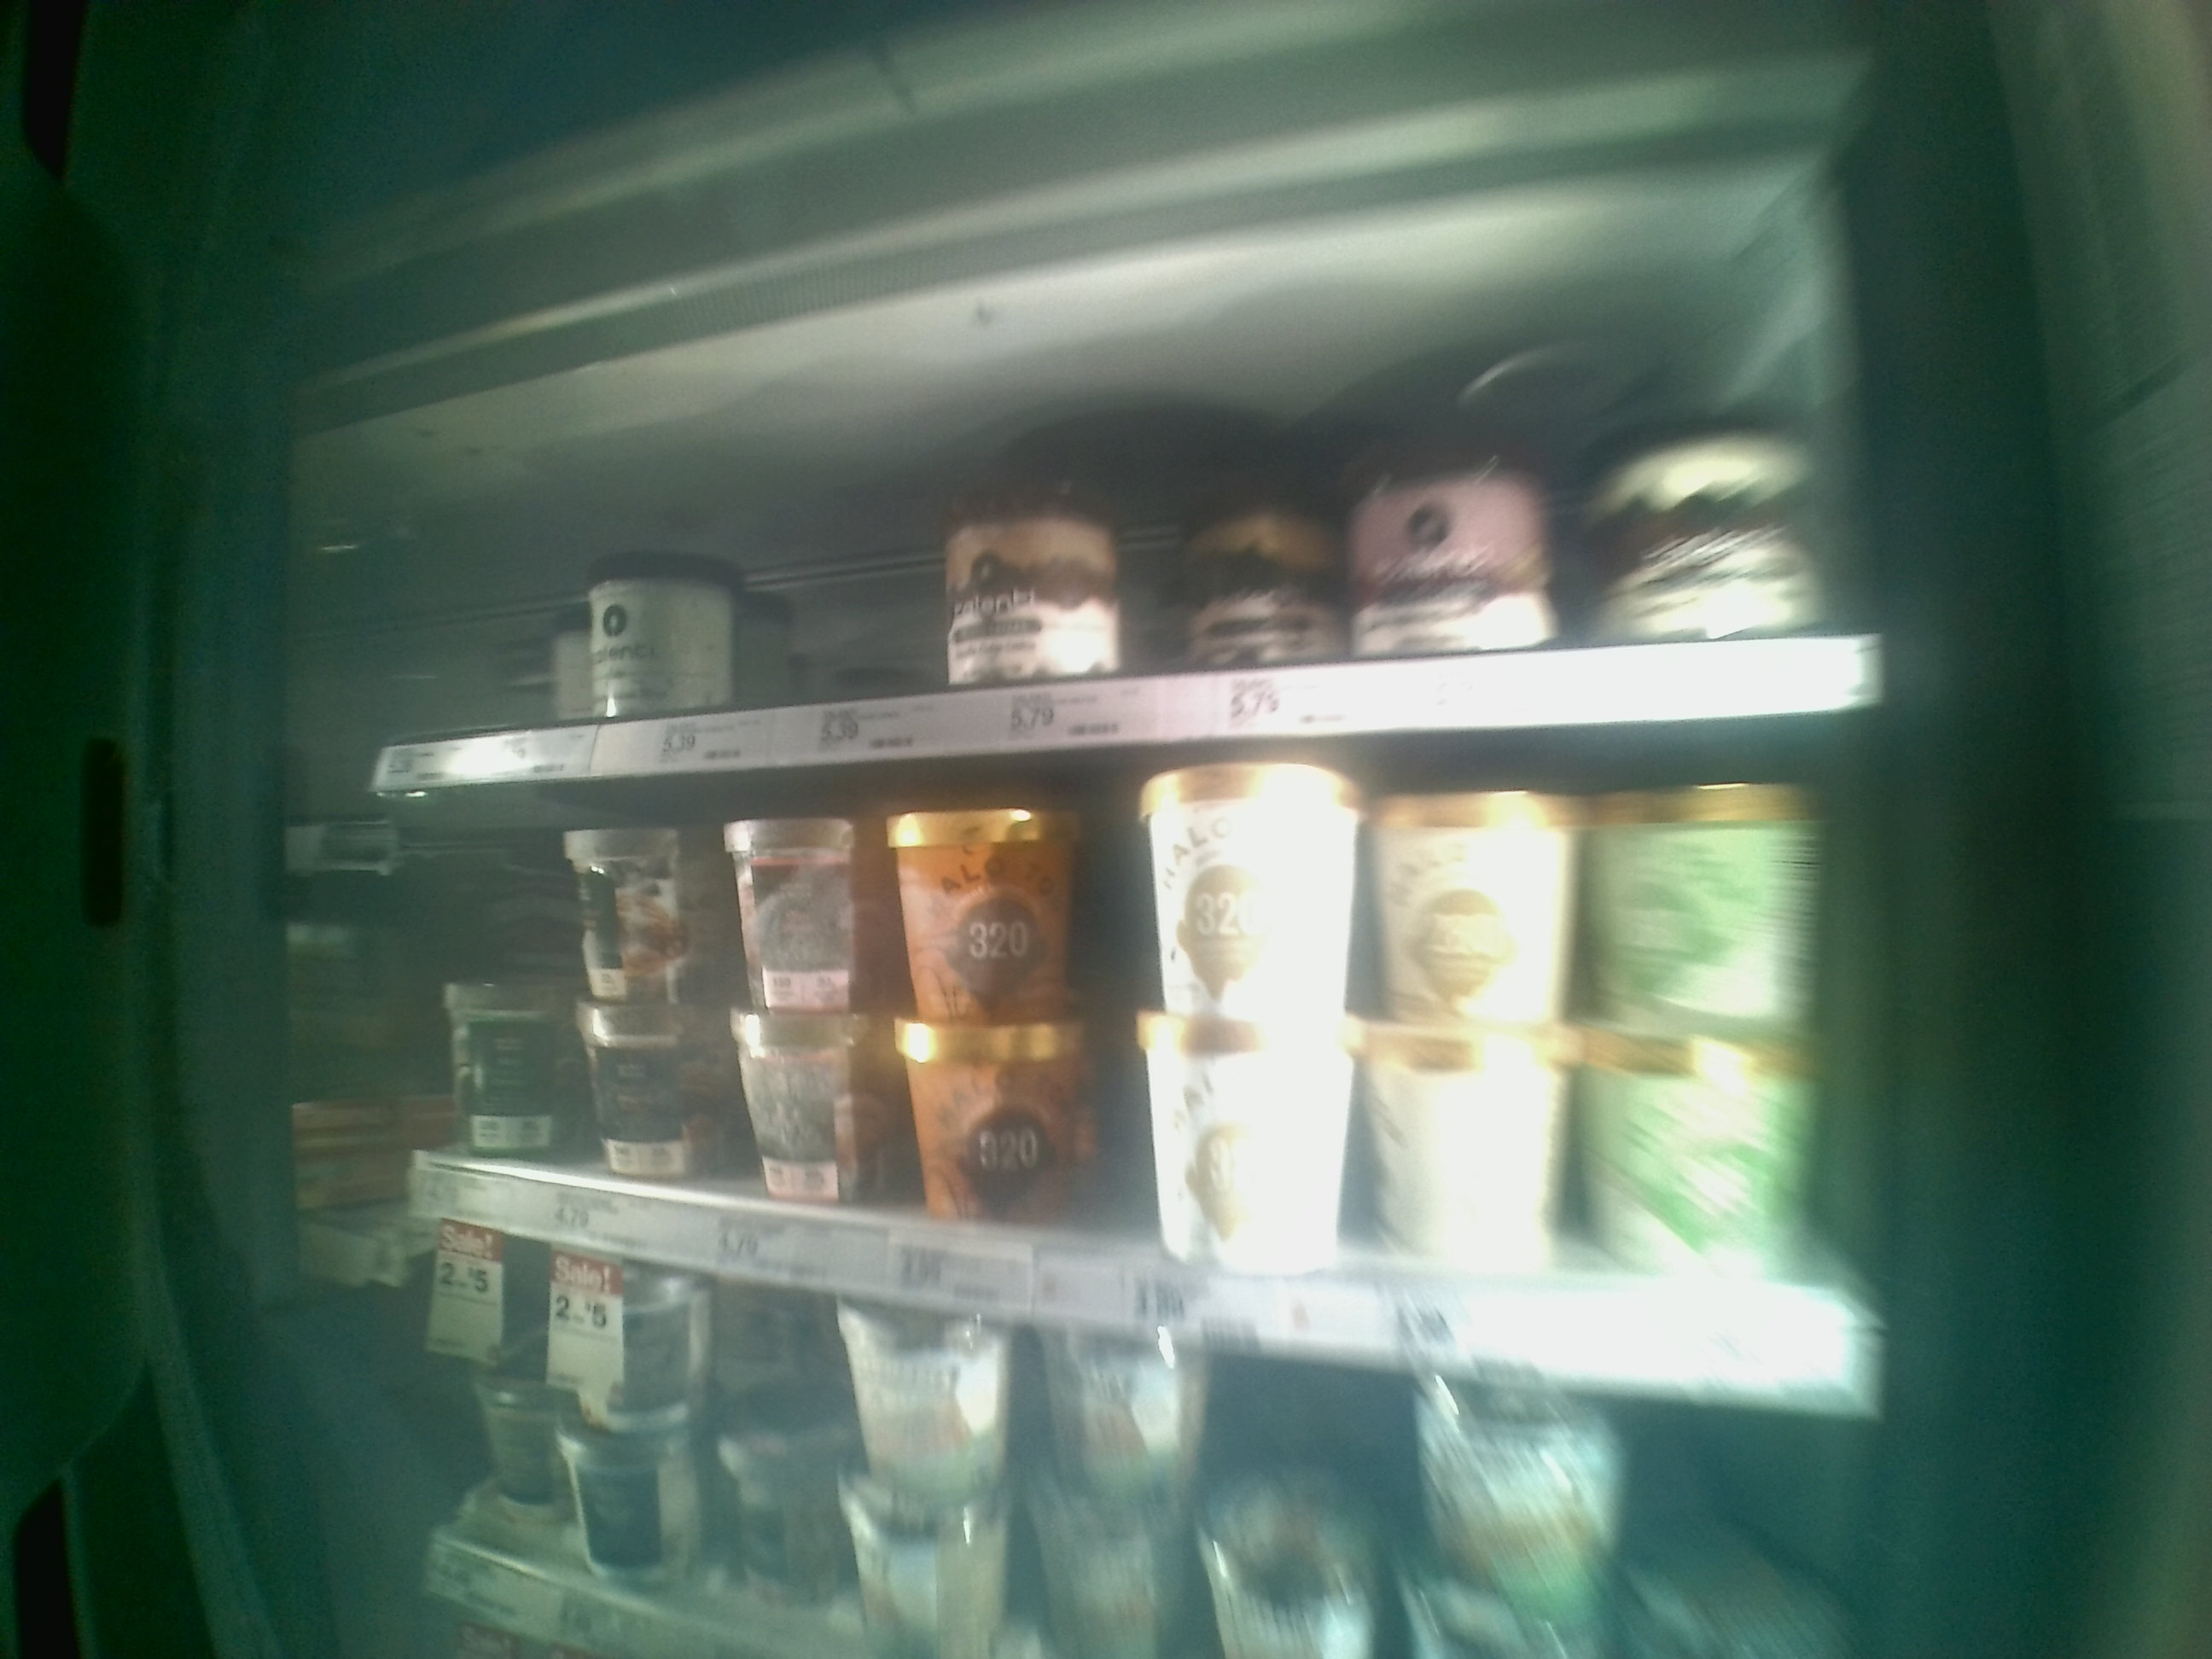shelf: (392, 716, 1886, 1417), (369, 329, 1878, 791)
